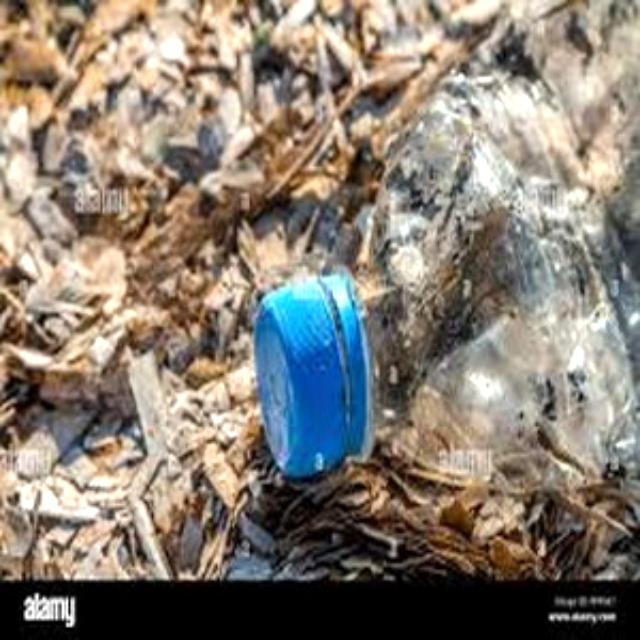Plastic: (246, 0, 639, 522)
